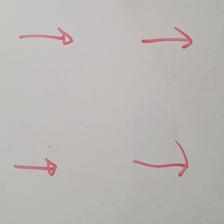stimulation: (132, 140, 188, 178), (140, 26, 193, 50), (19, 27, 74, 46), (12, 157, 58, 176)
